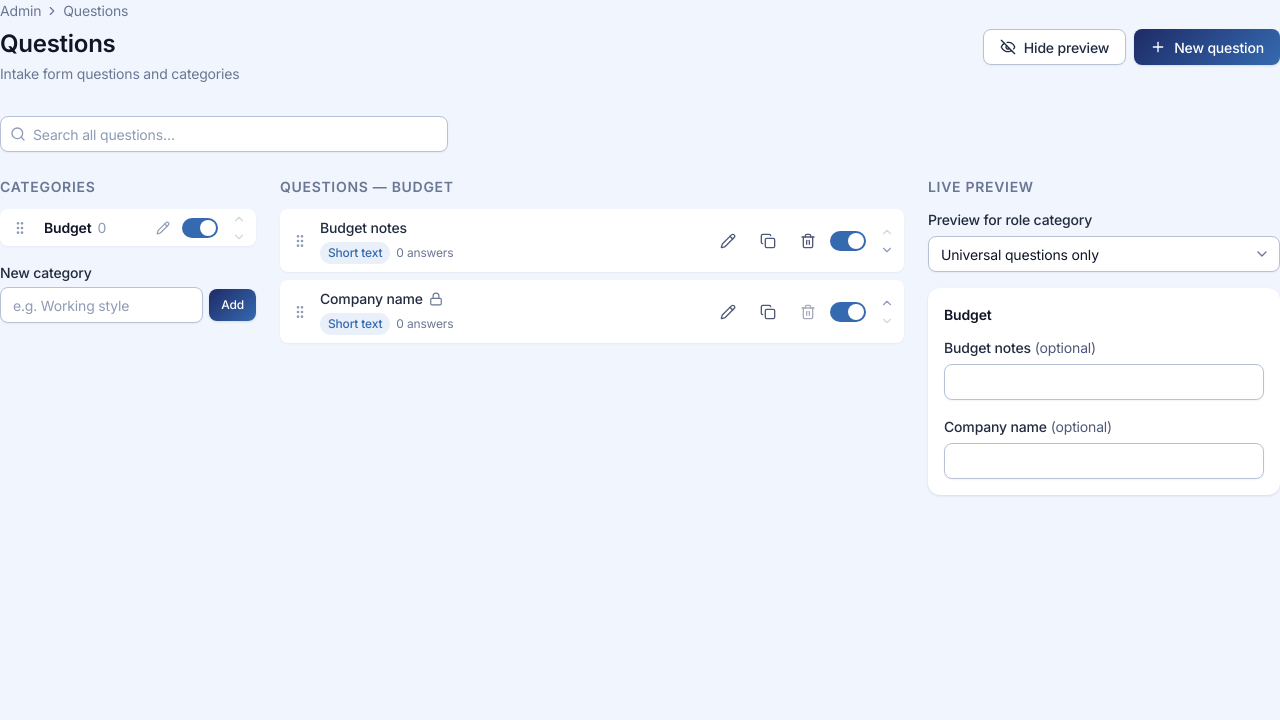
Test: typed-name archive confirmation (AC-UI-10) › arms the destructive button only when the exact name is typed
Click the button named "Archive Budget notes" at {"x": 808, "y": 240}, box top-left (790, 222), bottom-right (826, 258)
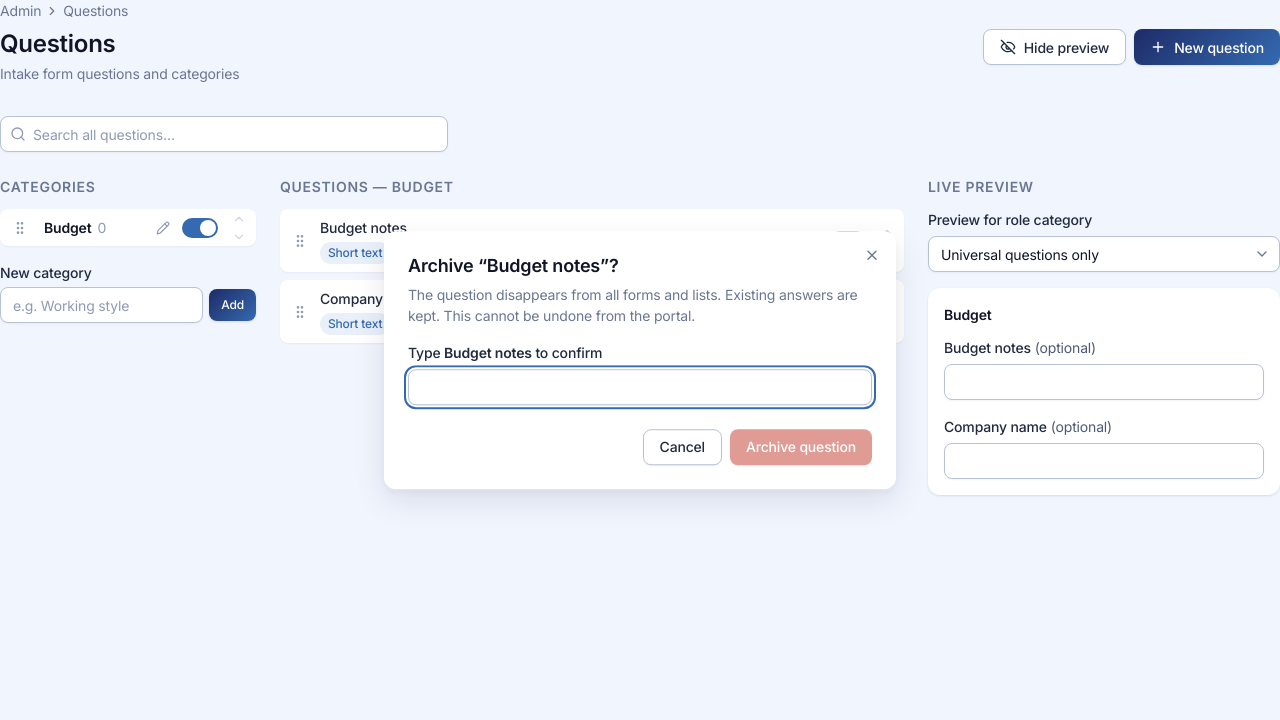
Result: the dialog shows "Archive “Budget notes”?" at top-left (384, 231), bottom-right (896, 489)
Result: the button "Archive question" is disabled at top-left (730, 429), bottom-right (872, 465)
Type "Budget" into the field labelled "Type Budget notes to confirm" at {"x": 640, "y": 387}, box top-left (408, 369), bottom-right (872, 405)
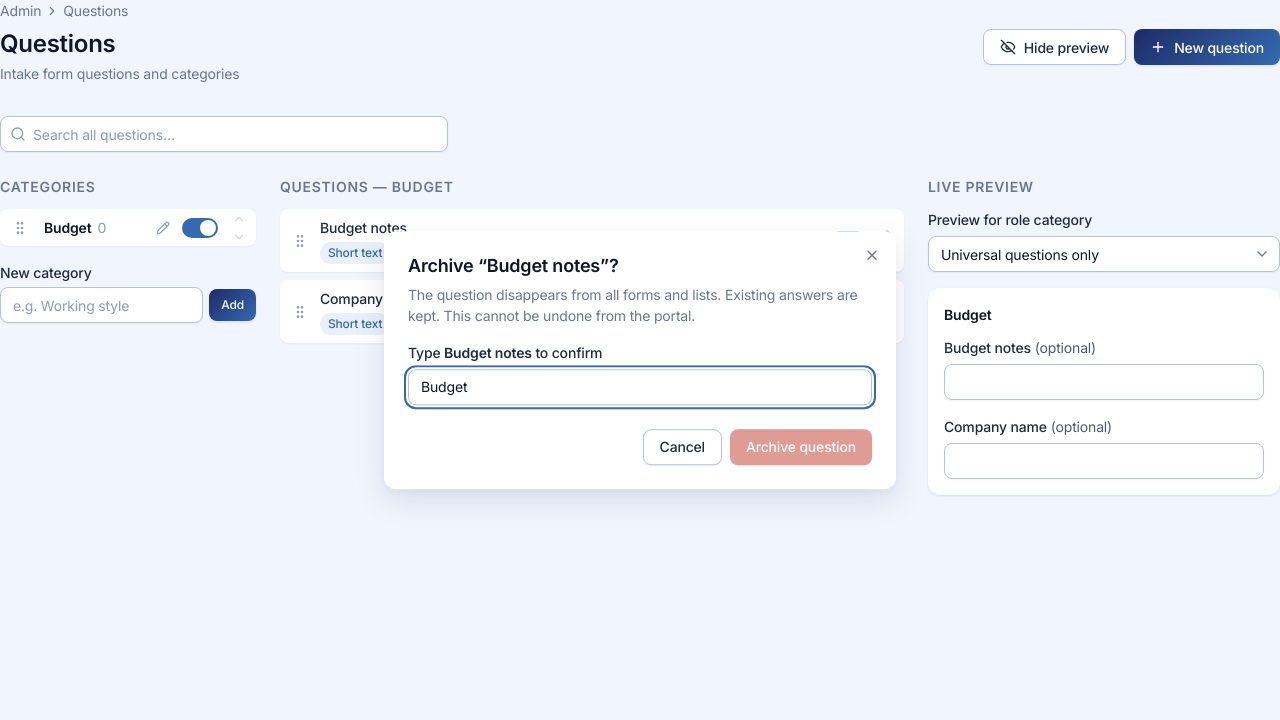
Result: the button "Archive question" is disabled at top-left (730, 429), bottom-right (872, 465)
Replace the text in the field labelled "Type Budget notes to confirm" with "Budget notes" at {"x": 640, "y": 387}, box top-left (408, 369), bottom-right (872, 405)
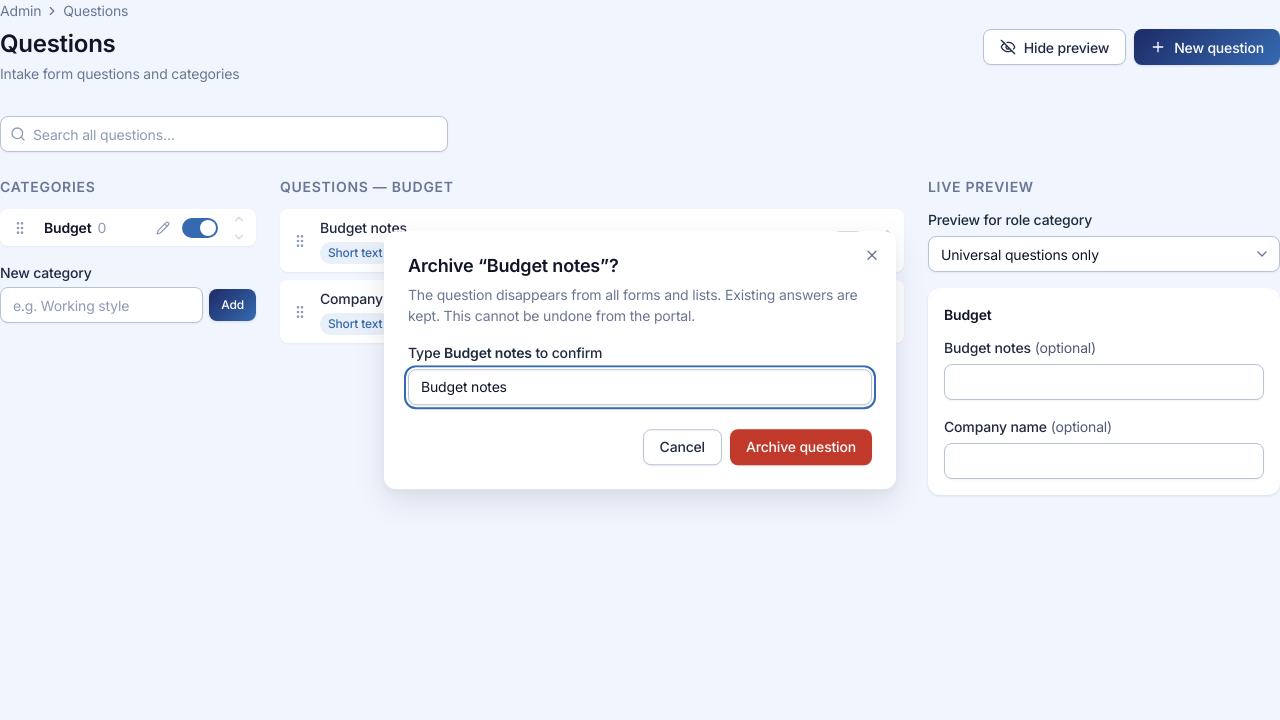
Result: the button "Archive question" is enabled
Click the button "Archive question" at {"x": 801, "y": 447}, box top-left (730, 429), bottom-right (872, 465)
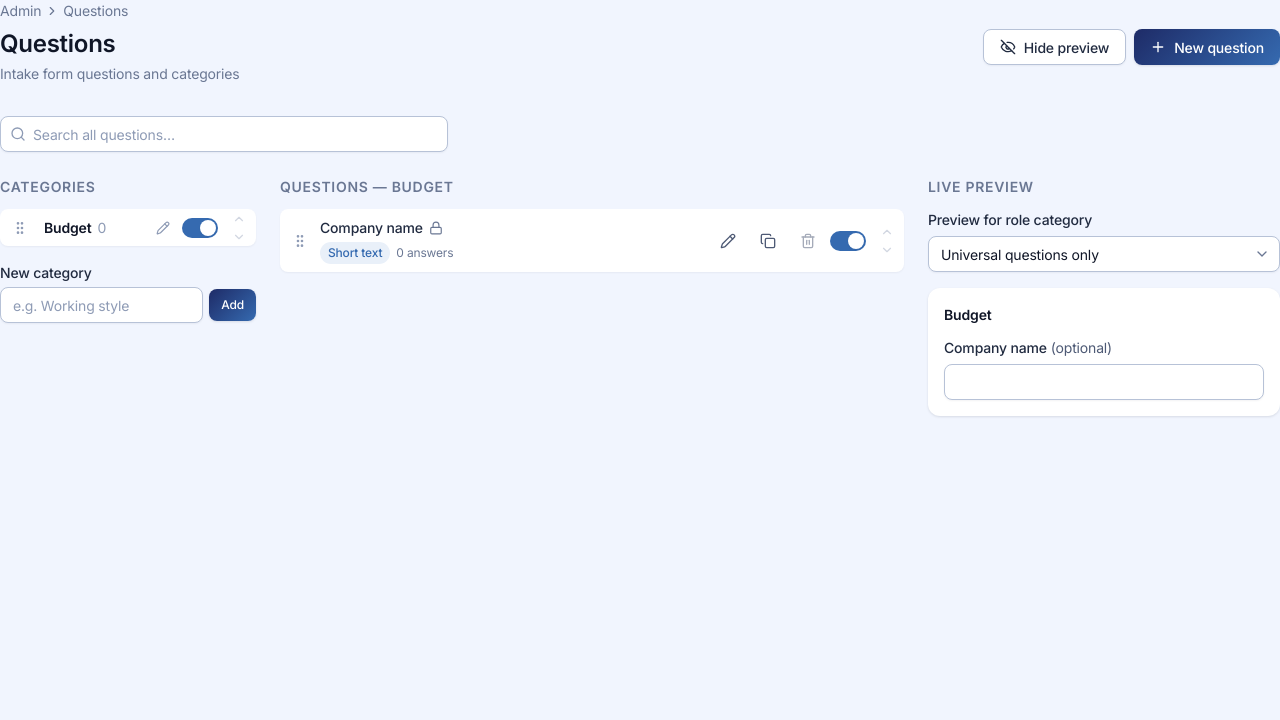
Result: the dialog is gone
